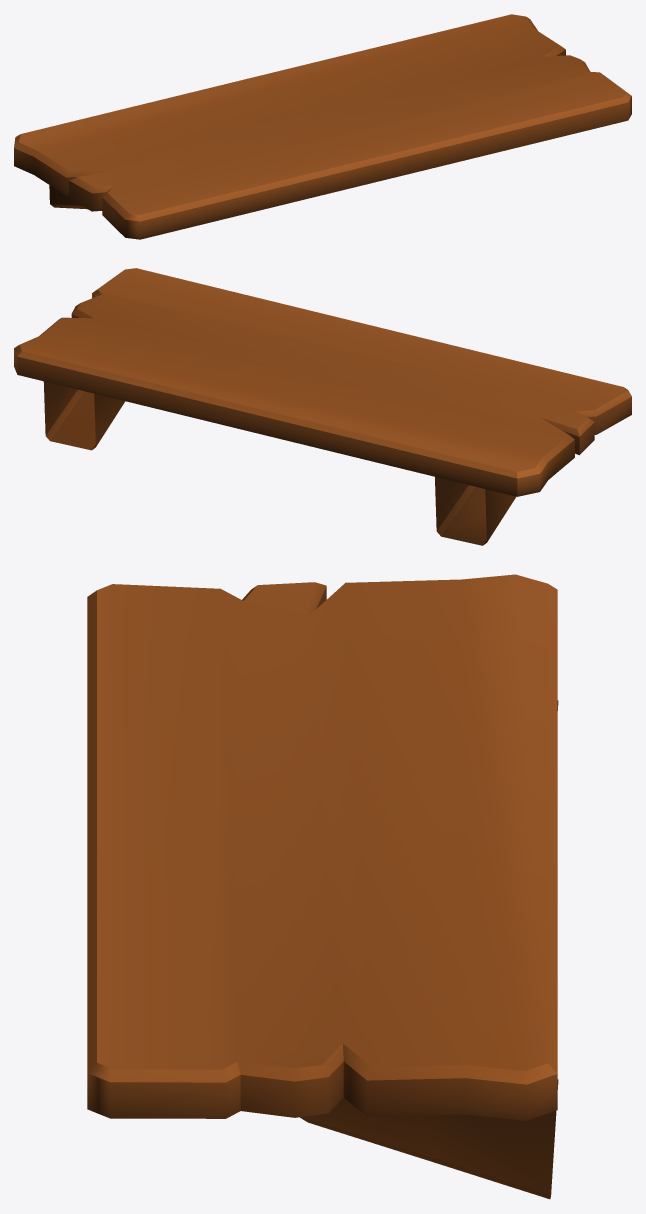
File: Shelf_Mesh_vc.fbx
3 views of the same model, one above another, from view 1: azimuth 30°, elevation 25°; view 2: azimuth 150°, elevation 25°; view 3: azimuth 270°, elevation 25° (orthographic). The views are drawn at different scales.
Parts seen in each view (by area): view 1: Shelf; view 2: Shelf; view 3: Shelf.
Boxes of the visible parts, x1,y1,x2,y2 form: Shelf: (14,14,631,239); Shelf: (14,268,631,545); Shelf: (87,574,558,1199).
Size of the model in its own units: 1075 by 162 by 422.
